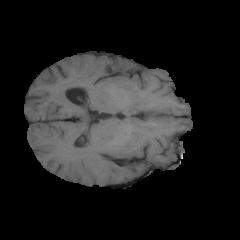glioma: (72, 56, 135, 105)
